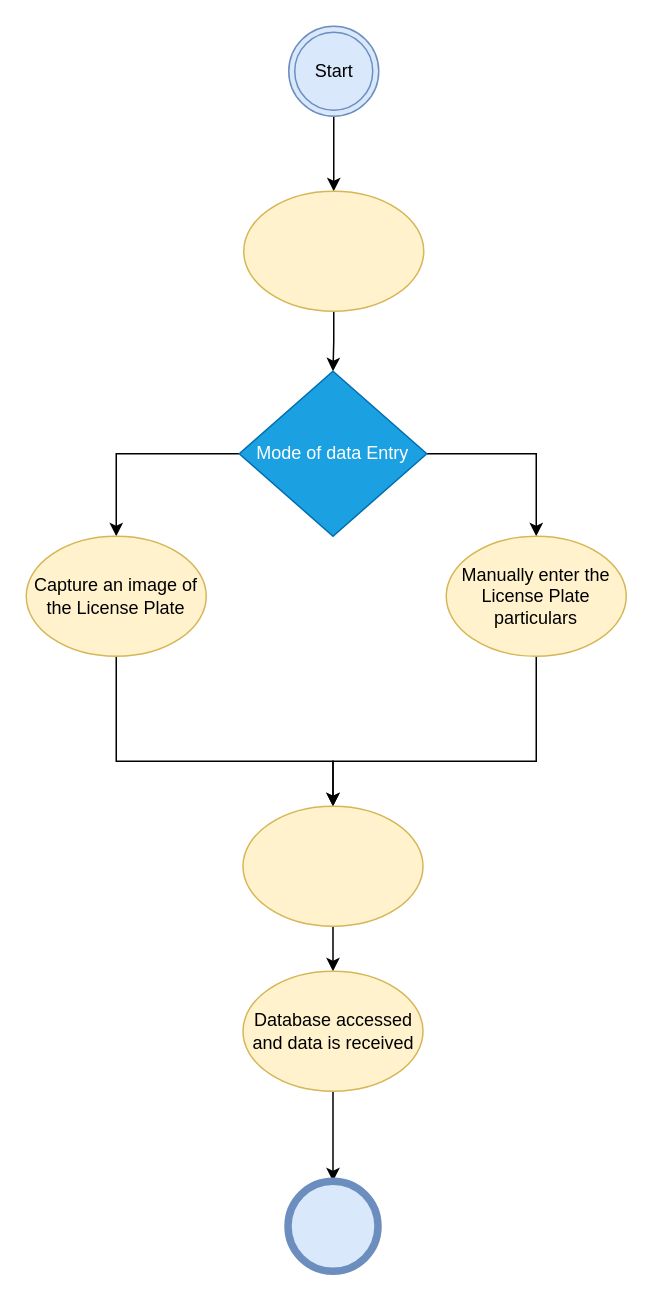
The diagram is 653 pixels wide and 1301 high, and some of its shapes have lost their labels. The shapes that lost their labels are listed below. From the top down, each one's centre as x and y in pixels, then its label:
At point (333, 250): "Vehicle is stopped for verification".
At point (332, 865): "Particulars are read".
At point (332, 1225): "STOP".
